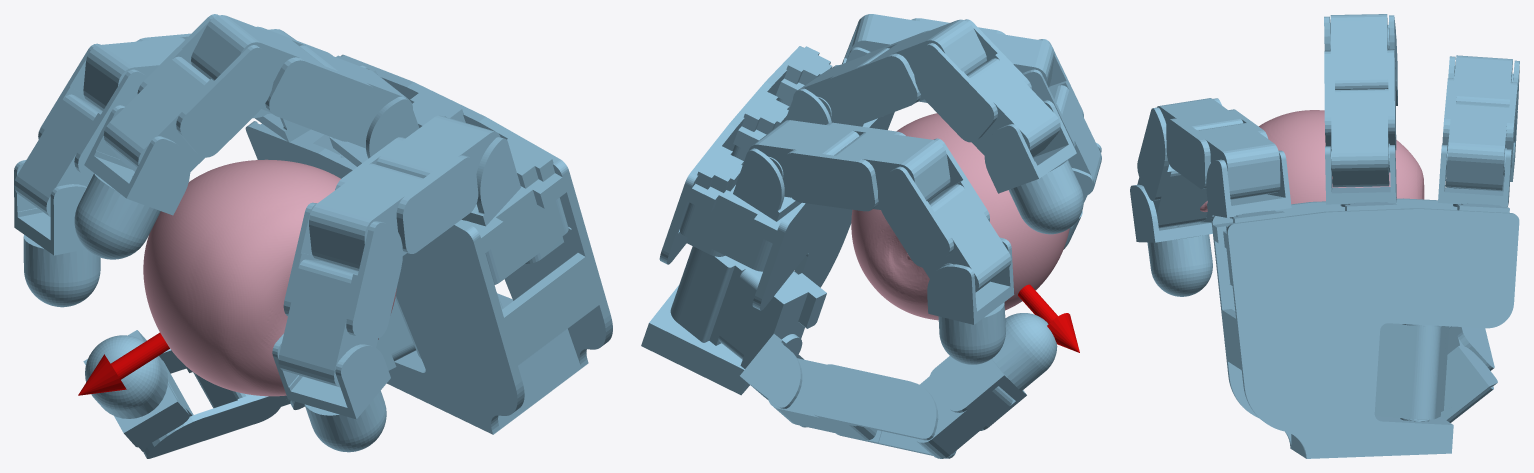
The picture shows the model from 3 angles, left to right: view 1: azimuth 30°, elevation 25°; view 2: azimuth 150°, elevation 25°; view 3: azimuth 270°, elevation 25°; orthographic projection. The views are drawn at different scales.
Visible parts, largest first — view 1: world, apple.stl; view 2: world, apple.stl; view 3: world, apple.stl.
Part boxes in pixels (left/top/right/bottom): world: left=14, top=14, right=612, bottom=458; apple.stl: left=143, top=159, right=396, bottom=396; world: left=641, top=14, right=1101, bottom=458; apple.stl: left=851, top=113, right=1069, bottom=320; world: left=1130, top=14, right=1519, bottom=458; apple.stl: left=1200, top=110, right=1424, bottom=211.
Size of the model in its own units: 0.1716 by 0.1559 by 0.1499.
